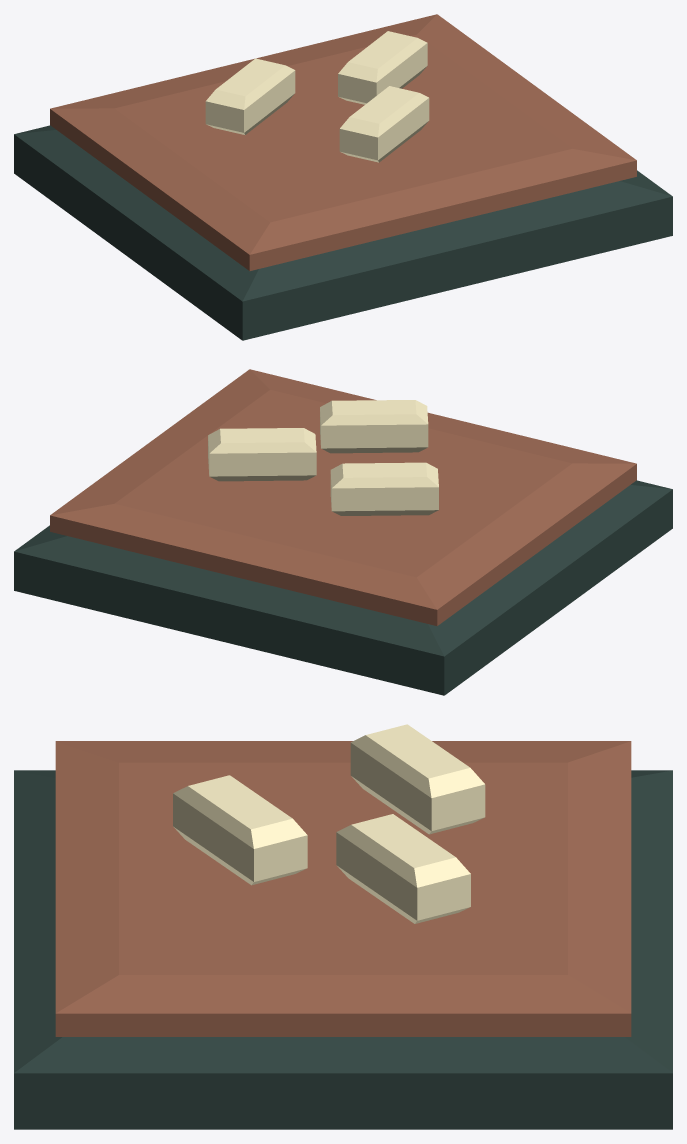
The model's file is badge_b.obj.
The picture shows the model from 3 angles, top to bottom: view 1: azimuth 30°, elevation 25°; view 2: azimuth 150°, elevation 25°; view 3: azimuth 270°, elevation 25°; orthographic projection. The views are drawn at different scales.
Parts seen in each view (by area): view 1: badge_b; view 2: badge_b; view 3: badge_b.
Part boxes in pixels (x1,y1,x2,y2): badge_b: (14,14,672,340); badge_b: (14,369,672,695); badge_b: (14,724,672,1129).
Size of the model in its own units: 0.25 by 0.0755 by 0.23.
